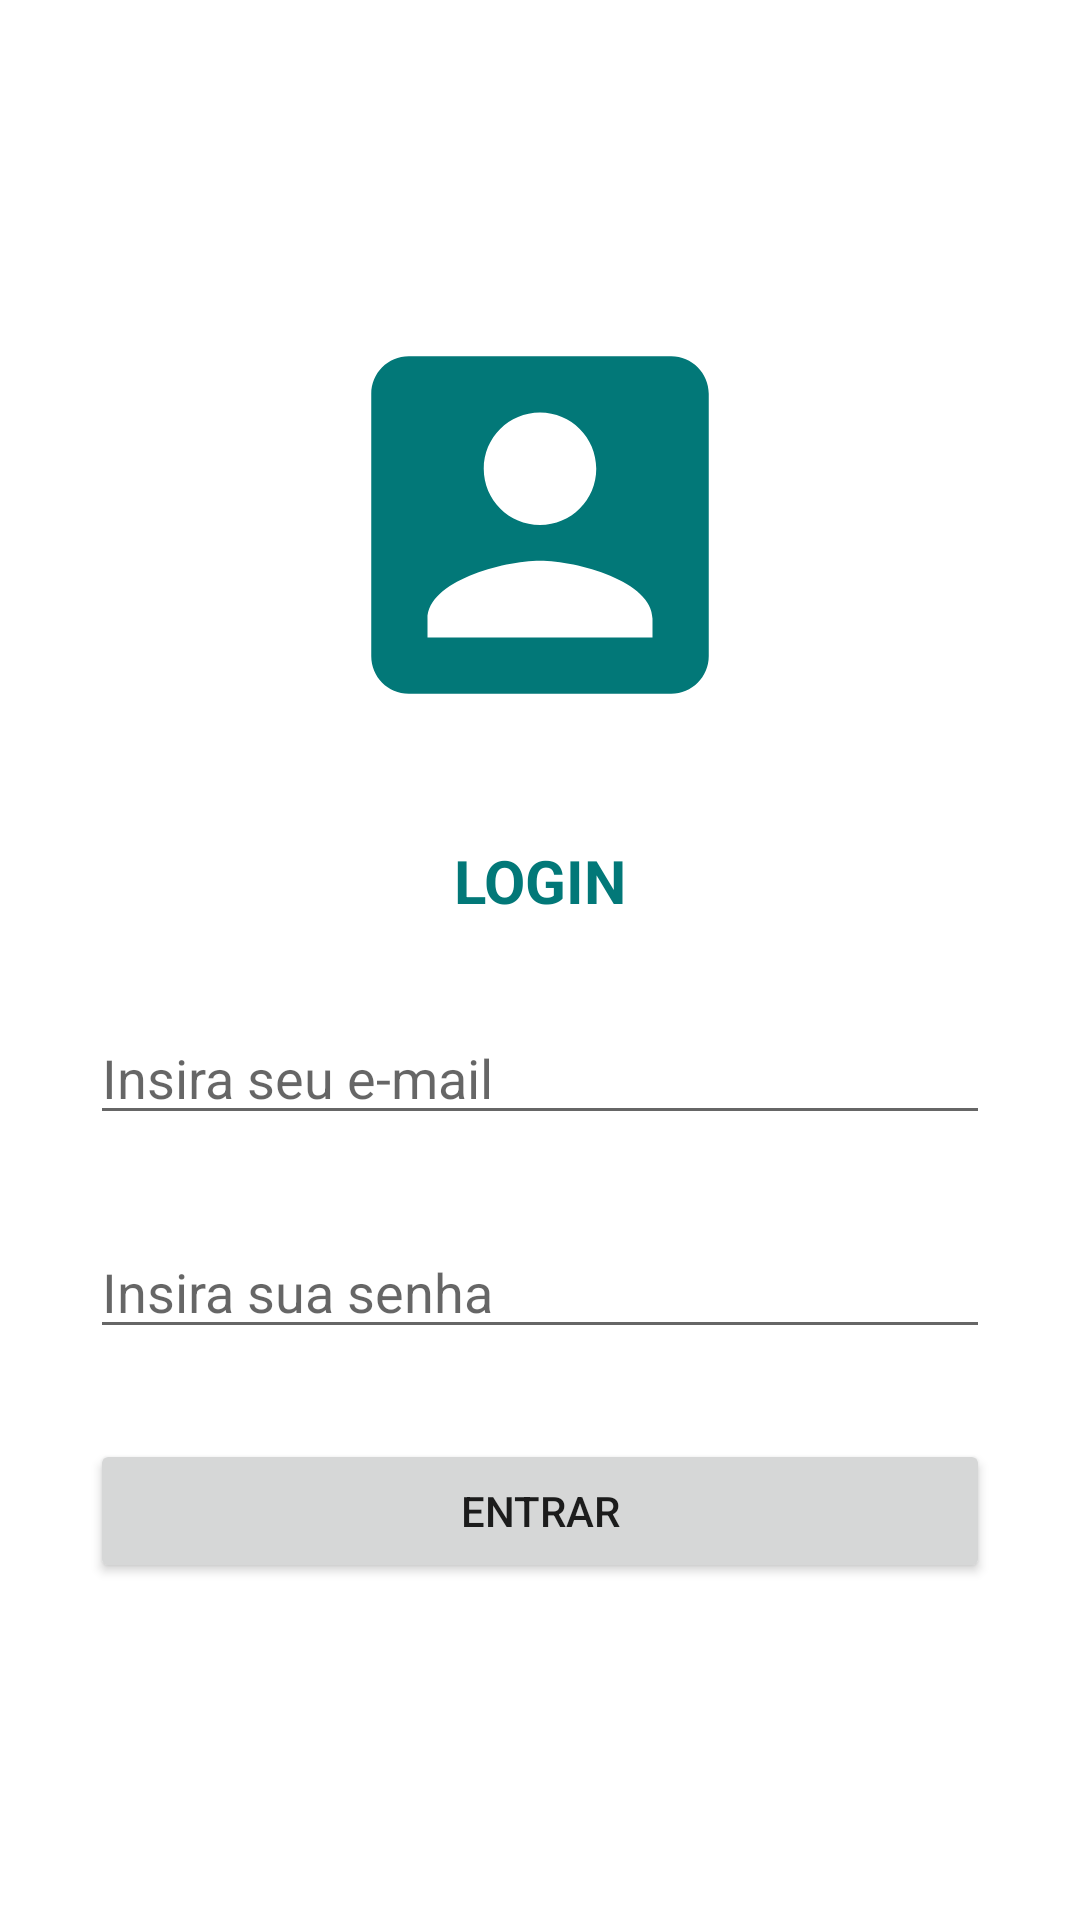

Named icons in this screenshot (1080 × 1920) and their centers, point (x, y):
account box: point (540, 525)
